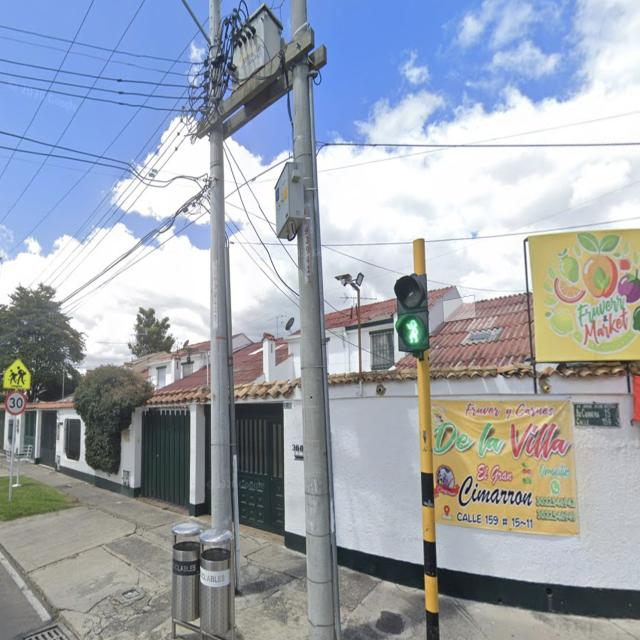Poste: (196, 0, 339, 640), (293, 60, 339, 640), (210, 125, 232, 533)
